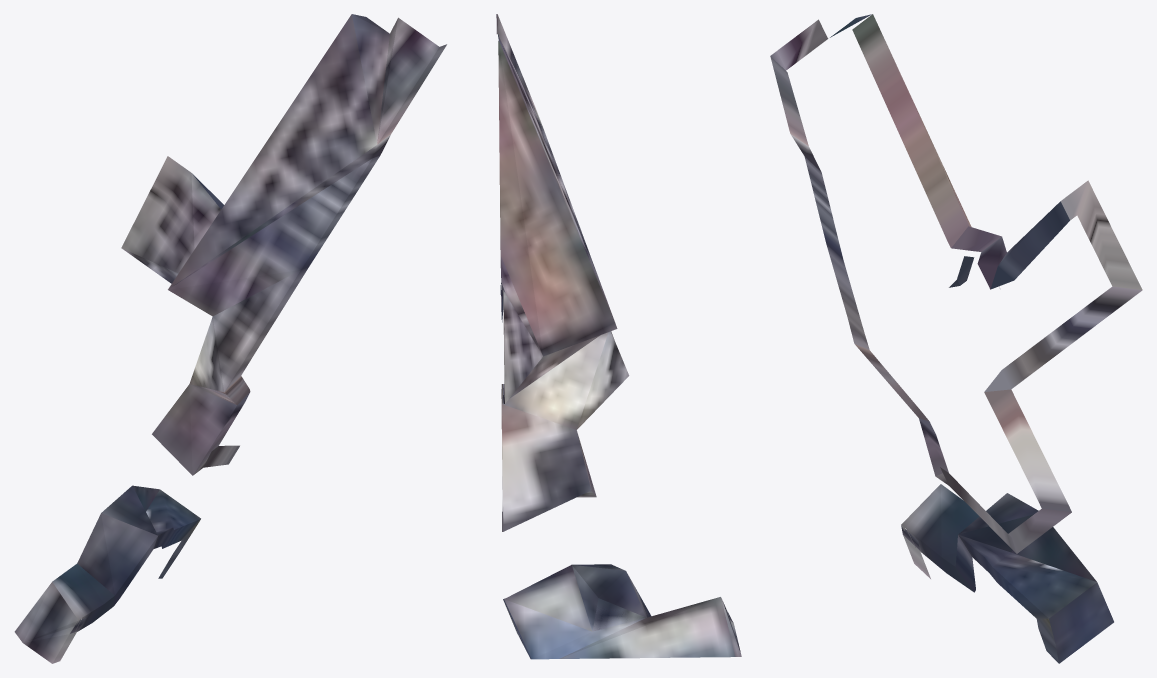
The picture shows the model from 3 angles, left to right: view 1: azimuth 30°, elevation 25°; view 2: azimuth 150°, elevation 25°; view 3: azimuth 270°, elevation 25°; orthographic projection. The views are drawn at different scales.
Bounding box in the file's own units: 34.47 × 55.76 × 25.73.
Materials: 1 (1 with a texture image).
